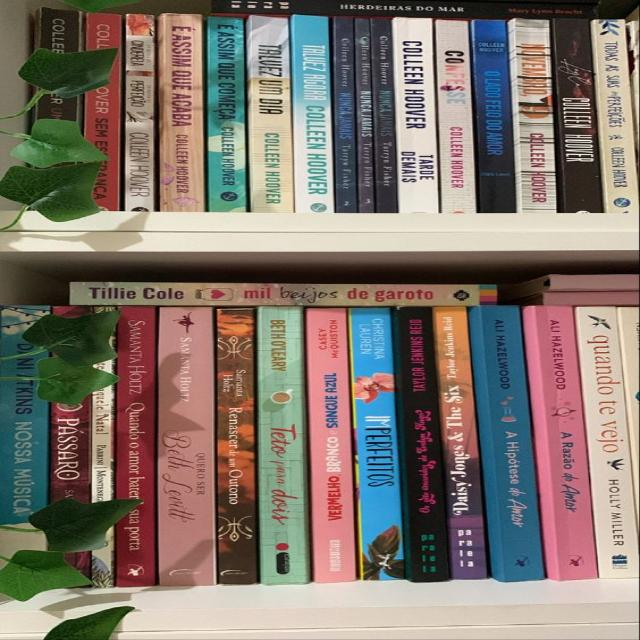book: (529, 305, 598, 581), (478, 306, 545, 581), (576, 306, 638, 578), (158, 306, 217, 586), (349, 307, 405, 581), (394, 305, 449, 582), (437, 306, 489, 579), (307, 308, 357, 583), (257, 305, 306, 584), (215, 308, 259, 586), (116, 305, 158, 587), (0, 305, 51, 521), (553, 19, 603, 212), (248, 15, 295, 212), (71, 282, 482, 304), (471, 19, 517, 213), (394, 17, 439, 213), (434, 19, 477, 214), (292, 16, 334, 213), (91, 305, 120, 589), (595, 20, 637, 212), (207, 17, 248, 212), (512, 18, 553, 212), (160, 14, 200, 210), (212, 0, 595, 19), (84, 12, 120, 210), (126, 14, 154, 211), (371, 18, 395, 213), (332, 17, 355, 214), (354, 17, 374, 213)
